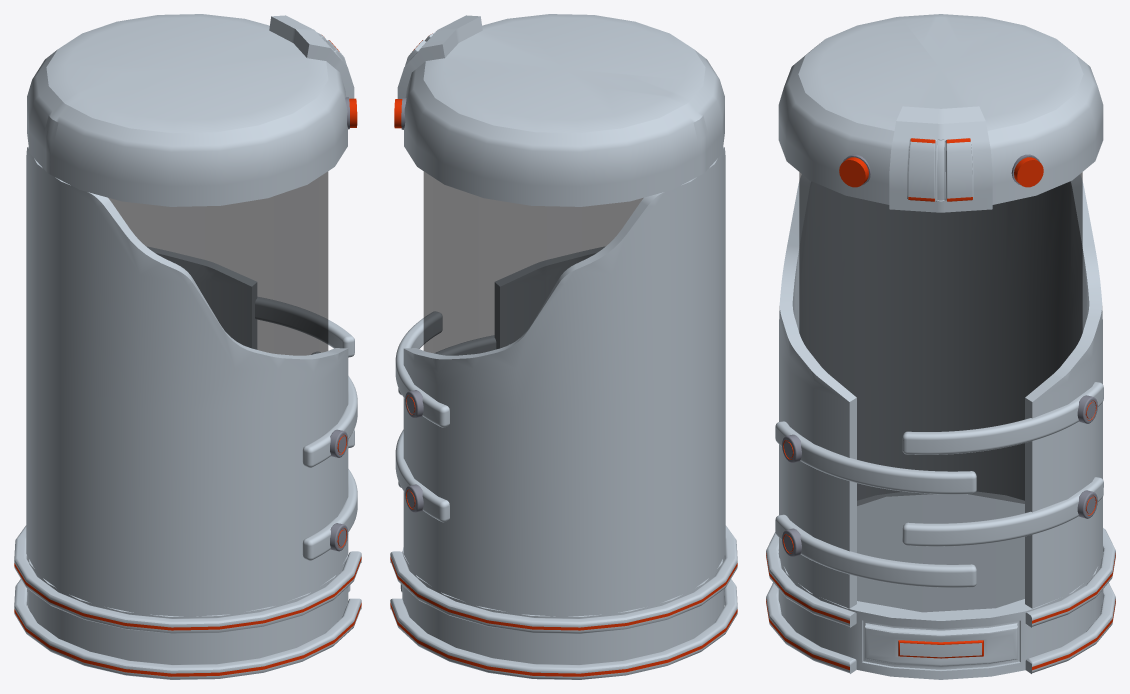
Rendered from capsule-edit.fbx.
3 renders of one model, left to right at view 1: azimuth 30°, elevation 25°; view 2: azimuth 150°, elevation 25°; view 3: azimuth 270°, elevation 25°, orthographic.
Parts seen in each view (by area): view 1: Base, pCylinder4, XXXX, pCylinder2, pPipe2, pPipe1, Glass7, Glass6, metal1, metal2, metal4, Glass3 (+1 smaller); view 2: Base, pCylinder4, XXXX, pCylinder2, Glass8, Glass3, pPipe2, pPipe1, Glass7, metal1, metal3, metal2; view 3: Base, XXXX, pCylinder4, pCylinder2, Glass8, Glass7, Glass2, Glass1, Glass6, metal4, metal2, metal3 (+6 smaller).
Boxes of the visible parts, x1,y1,x2,y2 form: Base: (26, 147, 348, 616); pCylinder4: (27, 14, 354, 206); XXXX: (108, 171, 328, 355); pCylinder2: (27, 554, 350, 664); pPipe2: (14, 525, 361, 633); pPipe1: (14, 579, 361, 679); Glass7: (274, 219, 317, 354); Glass6: (208, 266, 272, 352); metal1: (255, 297, 354, 357); metal2: (302, 352, 357, 467); metal4: (302, 469, 357, 560); Glass3: (300, 264, 327, 355); Base: (403, 147, 725, 616); pCylinder4: (397, 14, 724, 206); XXXX: (423, 171, 643, 355); pCylinder2: (400, 547, 724, 664); Glass8: (452, 205, 509, 354); Glass3: (510, 203, 581, 343); pPipe2: (390, 525, 737, 633); pPipe1: (390, 579, 737, 679); Glass7: (424, 209, 450, 354); metal1: (395, 311, 449, 427); metal3: (395, 429, 449, 522); metal2: (398, 335, 495, 395); Base: (779, 174, 1102, 608); XXXX: (799, 172, 1082, 505); pCylinder4: (778, 14, 1103, 212); pCylinder2: (778, 491, 1103, 679); Glass8: (854, 302, 922, 469); Glass7: (923, 302, 995, 476); Glass2: (923, 473, 995, 611); Glass1: (857, 452, 922, 611); Glass6: (996, 370, 1031, 607); metal4: (775, 514, 976, 587); metal2: (775, 421, 976, 494); metal3: (902, 477, 1103, 546).
Bounding box in the file's own units: 5.38 × 9.44 × 5.39.
